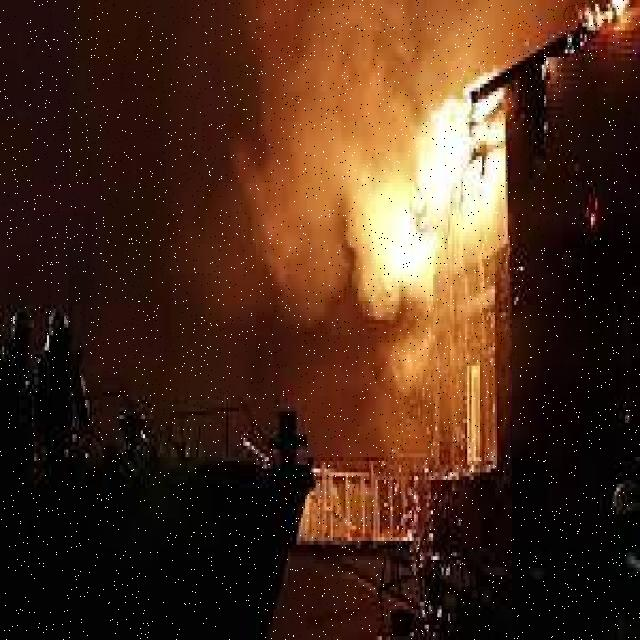fire: (325, 64, 520, 347)
